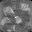people: (3, 6, 15, 16), (0, 17, 12, 26), (14, 16, 22, 25)
